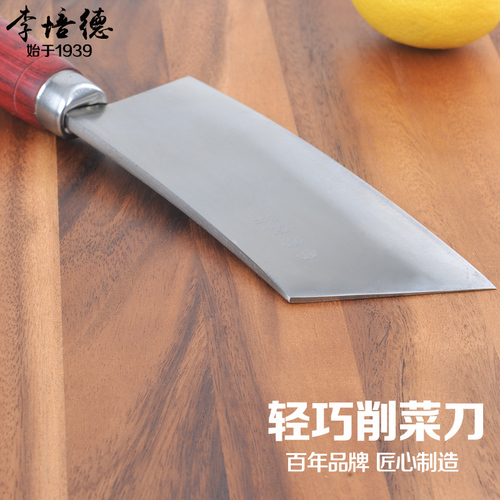knief: (24, 51, 496, 331)
